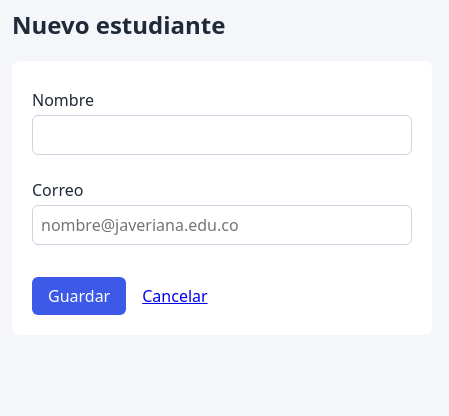
Scenario: UsuarioFormComponent › muestra el mensaje del backend cuando el correo ya existe
Type "Ana" into the field named "nombre" at [222, 135], box [32, 115, 412, 155]
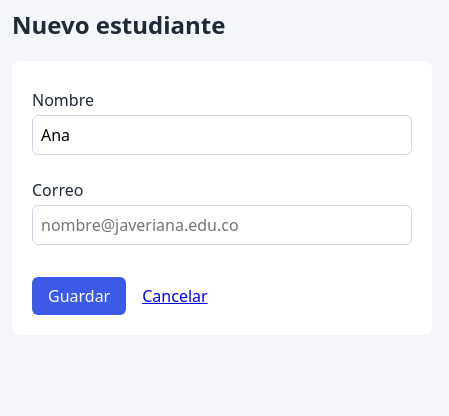
Type "ana@javeriana.edu.co" into the field named "correo" at [222, 225], box [32, 205, 412, 245]
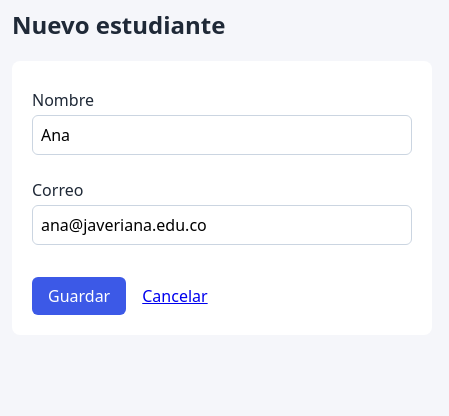
Submit the form
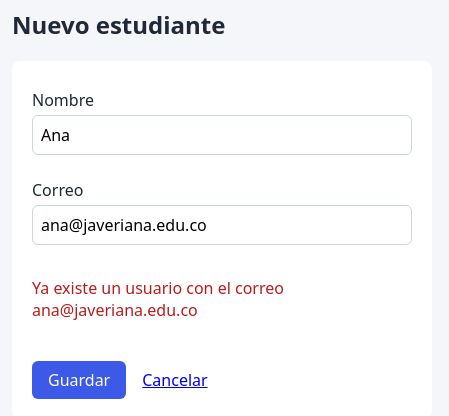
Expected: the submit button is enabled, [32, 361, 126, 399]
Expected: the text "Ya existe un usuario con el correo ana@javeriana.edu.co" is shown, [32, 277, 284, 321]
